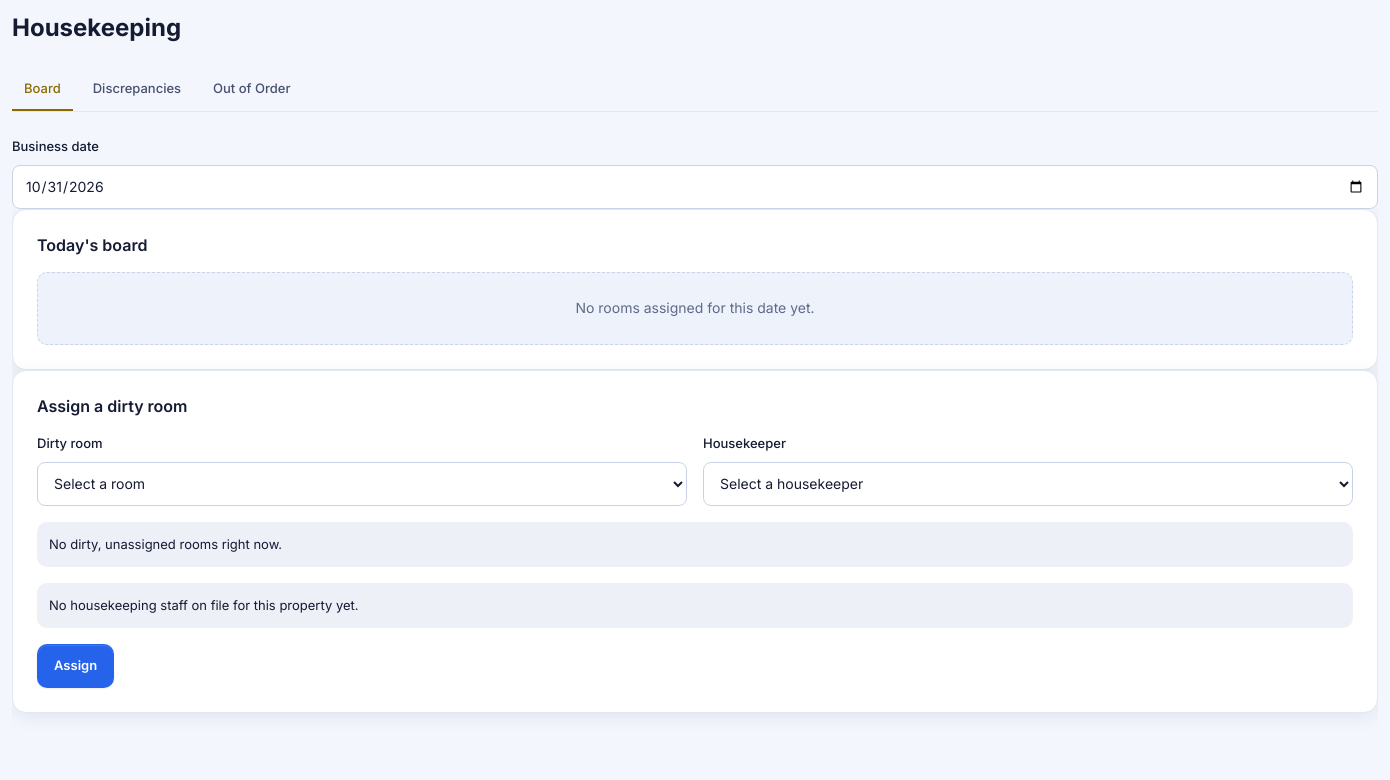
Test: <HousekeepingScreen> › switches to the Discrepancies tab and loads it
The width and height of the screenshot is (1390, 780).
Click the tab "Discrepancies".
click(137, 89)  # box 81,67 -> 193,111
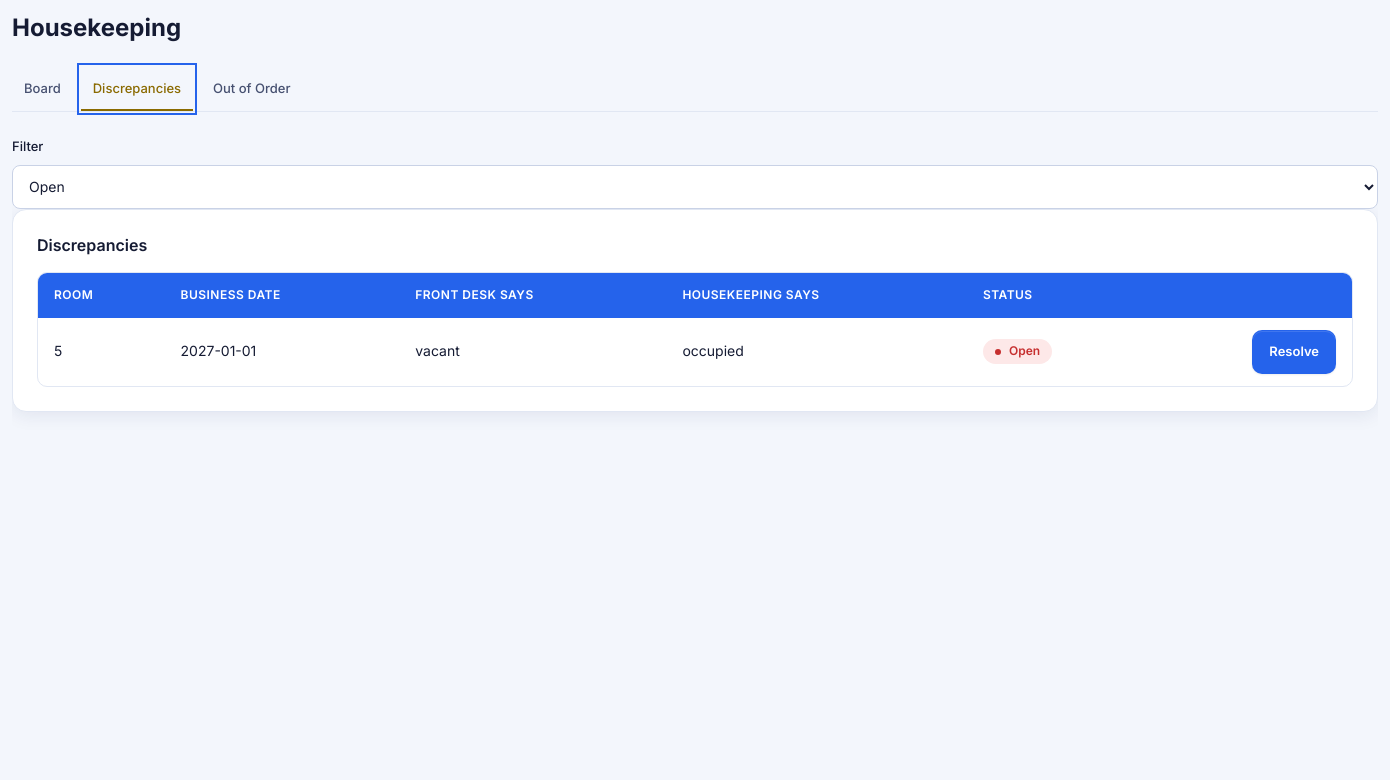
Expected: the text "vacant" is shown, 399,317 -> 666,386
Expected: the text "occupied" is shown, 666,317 -> 967,386
